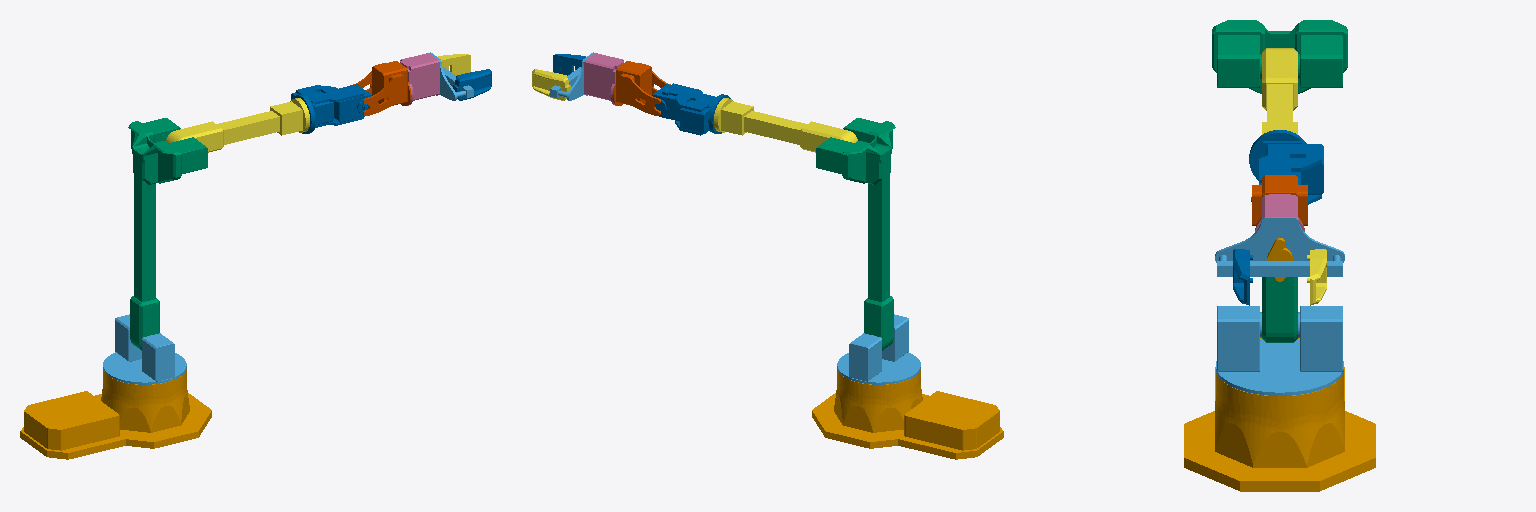
robot.urdf — wx250s:
<?xml version="1.0" encoding="UTF-8"?>
<!-- =================================================================================== -->
<!-- |    This document was autogenerated by xacro from C:\Users\tola\Anaconda3\envs\urdf_analyzer\Lib\site-packages\rtbdata\xacro\interbotix_descriptions\urdf\wx250s.urdf.xacro | -->
<!-- |    EDITING THIS FILE BY HAND IS NOT RECOMMENDED                                 | -->
<!-- =================================================================================== -->
<robot name="wx250s">
  <link name="base_link">
    <visual>
      <origin rpy="0 0 1.5707963267948966" xyz="0 0 0"/>
      <geometry>
        <mesh filename="meshes_wx250s/WXSA_250_M_1_Base.obj" scale="0.001 0.001 0.001"/>
      </geometry>
    </visual>
    <collision>
      <origin rpy="0 0 1.5707963267948966" xyz="0 0 0"/>
      <geometry>
        <mesh filename="meshes_wx250s/WXSA_250_M_1_Base.stl" scale="0.001 0.001 0.001"/>
      </geometry>
    </collision>
    <inertial>
      <origin rpy="0 0 1.5707963267948966" xyz="-0.0380446000 0.0006138920 0.0193354000"/>
      <mass value="0.538736"/>
      <inertia ixx="0.0021150000" ixy="-0.0000163500" ixz="0.0000006998" iyy="0.0006921000" iyz="0.0000464200" izz="0.0025240000"/>
    </inertial>
  </link>
  <joint name="waist" type="revolute">
    <axis xyz="0 0 1"/>
    <limit effort="10" lower="-3.141592653589793" upper="3.141592653589793" velocity="3.141592653589793"/>
    <origin rpy="0 0 0" xyz="0 0 0.072"/>
    <parent link="base_link"/>
    <child link="shoulder_link"/>
  </joint>
  <!-- <transmission name="trans_waist">
    <type>transmission_interface/SimpleTransmission</type>
    <joint name="waist">
      <hardwareInterface>hardware_interface/EffortJointInterface</hardwareInterface>
    </joint>
    <actuator name="waist_motor">
      <mechanicalReduction>1</mechanicalReduction>
    </actuator>
  </transmission> -->
  <link name="shoulder_link">
    <visual>
      <origin rpy="0 0 1.5707963267948966" xyz="0 0 -0.003"/>
      <geometry>
        <mesh filename="meshes_wx250s/WXSA_250_M_2_Shoulder.obj" scale="0.001 0.001 0.001"/>
      </geometry>
    </visual>
    <collision>
      <origin rpy="0 0 1.5707963267948966" xyz="0 0 -0.003"/>
      <geometry>
        <mesh filename="meshes_wx250s/WXSA_250_M_2_Shoulder.stl" scale="0.001 0.001 0.001"/>
      </geometry>
    </collision>
    <inertial>
      <origin rpy="0 0 1.5707963267948966" xyz="0.0000223482 0.0000414609 0.0066287000"/>
      <mass value="0.480879"/>
      <inertia ixx="0.0003790000" ixy="0.0000000022" ixz="-0.0000003561" iyy="0.0005557000" iyz="0.0000012245" izz="0.0005889000"/>
    </inertial>
  </link>
  <joint name="shoulder" type="revolute">
    <axis xyz="0 1 0"/>
    <limit effort="20" lower="-1.8849555921538759" upper="1.9896753472735358" velocity="3.141592653589793"/>
    <origin rpy="0 0 0" xyz="0 0 0.03865"/>
    <parent link="shoulder_link"/>
    <child link="upper_arm_link"/>
  </joint>
  <!-- <transmission name="trans_shoulder">
    <type>transmission_interface/SimpleTransmission</type>
    <joint name="shoulder">
      <hardwareInterface>hardware_interface/EffortJointInterface</hardwareInterface>
    </joint>
    <actuator name="shoulder_motor">
      <mechanicalReduction>1</mechanicalReduction>
    </actuator>
  </transmission> -->
  <link name="upper_arm_link">
    <visual>
      <origin rpy="0 0 1.5707963267948966" xyz="0 0 0"/>
      <geometry>
        <mesh filename="meshes_wx250s/WXSA_250_M_3_UA.obj" scale="0.001 0.001 0.001"/>
      </geometry>
    </visual>
    <collision>
      <origin rpy="0 0 1.5707963267948966" xyz="0 0 0"/>
      <geometry>
        <mesh filename="meshes_wx250s/WXSA_250_M_3_UA.stl" scale="0.001 0.001 0.001"/>
      </geometry>
    </collision>
    <inertial>
      <origin rpy="0 0 1.5707963267948966" xyz="0.0171605000 0.0000002725 0.1913230000"/>
      <mass value="0.430811"/>
      <inertia ixx="0.0034630000" ixy="-0.0000000001" ixz="-0.0000000002" iyy="0.0035870000" iyz="0.0004272000" izz="0.0004566000"/>
    </inertial>
  </link>
  <joint name="elbow" type="revolute">
    <axis xyz="0 1 0"/>
    <limit effort="15" lower="-2.1467549799530254" upper="1.6057029118347832" velocity="3.141592653589793"/>
    <origin rpy="0 0 0" xyz="0.04975 0 0.25"/>
    <parent link="upper_arm_link"/>
    <child link="upper_forearm_link"/>
  </joint>
  <!-- <transmission name="trans_elbow">
    <type>transmission_interface/SimpleTransmission</type>
    <joint name="elbow">
      <hardwareInterface>hardware_interface/EffortJointInterface</hardwareInterface>
    </joint>
    <actuator name="elbow_motor">
      <mechanicalReduction>1</mechanicalReduction>
    </actuator>
  </transmission> -->
  <link name="upper_forearm_link">
    <visual>
      <origin rpy="0 0 0" xyz="0 0 0"/>
      <geometry>
        <mesh filename="meshes_wx250s/WXSA_250_M_4_UF.obj" scale="0.001 0.001 0.001"/>
      </geometry>
    </visual>
    <collision>
      <origin rpy="0 0 0" xyz="0 0 0"/>
      <geometry>
        <mesh filename="meshes_wx250s/WXSA_250_M_4_UF.stl" scale="0.001 0.001 0.001"/>
      </geometry>
    </collision>
    <inertial>
      <origin rpy="0 0 0" xyz="0.1079630000 0.0001158760 0"/>
      <mass value="0.234589"/>
      <inertia ixx="0.0000397100" ixy="0.0000023528" ixz="0" iyy="0.0008878000" iyz="0" izz="0.0008880000"/>
    </inertial>
  </link>
  <joint name="forearm_roll" type="revolute">
    <axis xyz="1 0 0"/>
    <limit effort="2" lower="-3.141582653589793" upper="3.141582653589793" velocity="3.141592653589793"/>
    <origin rpy="0 0 0" xyz="0.175 0 0"/>
    <parent link="upper_forearm_link"/>
    <child link="lower_forearm_link"/>
  </joint>
  <!-- <transmission name="trans_forearm_roll">
    <type>transmission_interface/SimpleTransmission</type>
    <joint name="forearm_roll">
      <hardwareInterface>hardware_interface/EffortJointInterface</hardwareInterface>
    </joint>
    <actuator name="forearm_roll_motor">
      <mechanicalReduction>1</mechanicalReduction>
    </actuator>
  </transmission> -->
  <link name="lower_forearm_link">
    <visual>
      <origin rpy="3.141592653589793 0 0" xyz="0 0 0"/>
      <geometry>
        <mesh filename="meshes_wx250s/WXSA_250_M_5_LF.obj" scale="0.001 0.001 0.001"/>
      </geometry>
    </visual>
    <collision>
      <origin rpy="3.141592653589793 0 0" xyz="0 0 0"/>
      <geometry>
        <mesh filename="meshes_wx250s/WXSA_250_M_5_LF.stl" scale="0.001 0.001 0.001"/>
      </geometry>
    </collision>
    <inertial>
      <origin rpy="3.141592653589793 0 0" xyz="0.0374395000 0.0052225200 0"/>
      <mass value="0.220991"/>
      <inertia ixx="0.0000636900" ixy="-0.0000229200" ixz="0" iyy="0.0001677000" iyz="0" izz="0.0001834000"/>
    </inertial>
  </link>
  <joint name="wrist_angle" type="revolute">
    <axis xyz="0 1 0"/>
    <limit effort="5" lower="-1.7453292519943295" upper="2.1467549799530254" velocity="3.141592653589793"/>
    <origin rpy="0 0 0" xyz="0.075 0 0"/>
    <parent link="lower_forearm_link"/>
    <child link="wrist_link"/>
  </joint>
  <!-- <transmission name="trans_wrist_angle">
    <type>transmission_interface/SimpleTransmission</type>
    <joint name="wrist_angle">
      <hardwareInterface>hardware_interface/EffortJointInterface</hardwareInterface>
    </joint>
    <actuator name="wrist_angle_motor">
      <mechanicalReduction>1</mechanicalReduction>
    </actuator>
  </transmission> -->
  <link name="wrist_link">
    <visual>
      <origin rpy="0 0 1.5707963267948966" xyz="0 0 0"/>
      <geometry>
        <mesh filename="meshes_wx250s/WXSA_250_M_6_Wrist.obj" scale="0.001 0.001 0.001"/>
      </geometry>
    </visual>
    <collision>
      <origin rpy="0 0 1.5707963267948966" xyz="0 0 0"/>
      <geometry>
        <mesh filename="meshes_wx250s/WXSA_250_M_6_Wrist.stl" scale="0.001 0.001 0.001"/>
      </geometry>
    </collision>
    <inertial>
      <origin rpy="0 0 1.5707963267948966" xyz="0.0423600000 -0.0000106630 0.0105770000"/>
      <mass value="0.084957"/>
      <inertia ixx="0.0000308200" ixy="0.0000000191" ixz="0.0000000023" iyy="0.0000282200" iyz="0.0000025481" izz="0.0000315200"/>
    </inertial>
  </link>
  <joint name="wrist_rotate" type="revolute">
    <axis xyz="1 0 0"/>
    <limit effort="1" lower="-3.141582653589793" upper="3.141582653589793" velocity="3.141592653589793"/>
    <origin rpy="0 0 0" xyz="0.065 0 0"/>
    <parent link="wrist_link"/>
    <child link="gripper_link"/>
  </joint>
  <!-- <transmission name="trans_wrist_rotate">
    <type>transmission_interface/SimpleTransmission</type>
    <joint name="wrist_rotate">
      <hardwareInterface>hardware_interface/EffortJointInterface</hardwareInterface>
    </joint>
    <actuator name="wrist_rotate_motor">
      <mechanicalReduction>1</mechanicalReduction>
    </actuator>
  </transmission> -->
  <link name="gripper_link">
    <visual>
      <origin rpy="0 0 1.5707963267948966" xyz="-0.02 0 0"/>
      <geometry>
        <mesh filename="meshes_wx250s/WXSA_250_M_7_Gripper.obj" scale="0.001 0.001 0.001"/>
      </geometry>
    </visual>
    <collision>
      <origin rpy="0 0 1.5707963267948966" xyz="-0.02 0 0"/>
      <geometry>
        <mesh filename="meshes_wx250s/WXSA_250_M_7_Gripper.stl" scale="0.001 0.001 0.001"/>
      </geometry>
    </collision>
    <inertial>
      <origin rpy="0 0 1.5707963267948966" xyz="0.0216310000 0.0000002516 0.0114100000"/>
      <mass value="0.072885"/>
      <inertia ixx="0.0000253700" ixy="0.0000000000" ixz="0.0000000000" iyy="0.0000183600" iyz="0.0000004340" izz="0.0000167400"/>
    </inertial>
  </link>
  <joint name="ee_arm" type="fixed">
    <axis xyz="1 0 0"/>
    <origin rpy="0 0 0" xyz="0.043 0 0"/>
    <parent link="gripper_link"/>
    <child link="ee_arm_link"/>
  </joint>
  <link name="ee_arm_link">
    <inertial>
      <mass value="0.001"/>
      <inertia ixx="0.001" ixy="0" ixz="0" iyy="0.001" iyz="0" izz="0.001"/>
    </inertial>
  </link>
  <joint name="gripper" type="fixed">
    <axis xyz="1 0 0"/>
    <!-- <limit effort="1" velocity="3.141592653589793"/> -->
    <origin rpy="0 0 0" xyz="0.0055 0 0"/>
    <parent link="ee_arm_link"/>
    <child link="gripper_prop_link"/>
  </joint>
  <!-- <transmission name="trans_gripper">
    <type>transmission_interface/SimpleTransmission</type>
    <joint name="gripper">
      <hardwareInterface>hardware_interface/EffortJointInterface</hardwareInterface>
    </joint>
    <actuator name="gripper_motor">
      <mechanicalReduction>1</mechanicalReduction>
    </actuator>
  </transmission> -->
  <link name="gripper_prop_link">
    <visual>
      <origin rpy="0 0 1.5707963267948966" xyz="-0.0685 0 0"/>
      <geometry>
        <mesh filename="meshes_wx250s/WXSA_250_M_8_Gripper_Prop.obj" scale="0.001 0.001 0.001"/>
      </geometry>
    </visual>
    <collision>
      <origin rpy="0 0 1.5707963267948966" xyz="-0.0685 0 0"/>
      <geometry>
        <mesh filename="meshes_wx250s/WXSA_250_M_8_Gripper_Prop.stl" scale="0.001 0.001 0.001"/>
      </geometry>
    </collision>
    <inertial>
      <origin rpy="0 0 1.5707963267948966" xyz="0.0008460000 -0.0000016817 0.0000420000"/>
      <mass value="0.00434"/>
      <inertia ixx="0.0000005923" ixy="0.0000000000" ixz="0.0000003195" iyy="0.0000011156" iyz="-0.0000000004" izz="0.0000005743"/>
    </inertial>
  </link>
  <!-- If the default gripper bar is being used, then also add the gripper bar -->
  <joint name="gripper_bar" type="fixed">
    <axis xyz="1 0 0"/>
    <origin rpy="0 0 0" xyz="0 0 0"/>
    <parent link="ee_arm_link"/>
    <child link="gripper_bar_link"/>
  </joint>
  <link name="gripper_bar_link">
    <visual>
      <origin rpy="0 0 1.5707963267948966" xyz="-0.063 0 0"/>
      <geometry>
        <mesh filename="meshes_wx250s/WXSA_250_M_9_Gripper_Bar.obj" scale="0.001 0.001 0.001"/>
      </geometry>
    </visual>
    <collision>
      <origin rpy="0 0 1.5707963267948966" xyz="-0.063 0 0"/>
      <geometry>
        <mesh filename="meshes_wx250s/WXSA_250_M_9_Gripper_Bar.stl" scale="0.001 0.001 0.001"/>
      </geometry>
    </collision>
    <inertial>
      <origin rpy="0 0 1.5707963267948966" xyz="0.0096870000 0.0000008177 0.0049620000"/>
      <mass value="0.034199"/>
      <inertia ixx="0.0000074125" ixy="-0.0000000008" ixz="-0.0000000006" iyy="0.0000284300" iyz="-0.0000013889" izz="0.0000286000"/>
    </inertial>
  </link>
  <joint name="ee_bar" type="fixed">
    <axis xyz="1 0 0"/>
    <origin rpy="0 0 0" xyz="0.023 0 0"/>
    <parent link="gripper_bar_link"/>
    <child link="fingers_link"/>
  </joint>
  <link name="fingers_link">
    <inertial>
      <mass value="0.001"/>
      <inertia ixx="0.001" ixy="0" ixz="0" iyy="0.001" iyz="0" izz="0.001"/>
    </inertial>
  </link>
  <!-- If the default gripper fingers are being used, add those as well -->
  <joint name="left_finger" type="prismatic">
    <axis xyz="0 1 0"/>
    <!-- <limit effort="5" lower="0.015" upper="0.037" velocity="1"/> -->
    <limit effort="5" lower="0.015" upper="0.05" velocity="1"/>
    <origin rpy="0 0 0" xyz="0 0 0"/>
    <parent link="fingers_link"/>
    <child link="left_finger_link"/>
  </joint>
  <!-- <joint name="left_finger" type="fixed">
    <origin rpy="0 0 0" xyz="0 0 0"/>
    <parent link="fingers_link"/>
    <child link="left_finger_link"/>
  </joint> -->
  <!-- <transmission name="trans_left_finger">
    <type>transmission_interface/SimpleTransmission</type>
    <joint name="left_finger">
      <hardwareInterface>hardware_interface/EffortJointInterface</hardwareInterface>
    </joint>
    <actuator name="left_finger_motor">
      <mechanicalReduction>1</mechanicalReduction>
    </actuator>
  </transmission> -->
  <link name="left_finger_link">
    <visual>
      <origin rpy="3.141592653589793 3.141592653589793 0" xyz="0 0.005 0"/>
      <geometry>
        <mesh filename="meshes_wx250s/WXSA_250_M_10_Finger.obj" scale="0.001 0.001 0.001"/>
      </geometry>
    </visual>
    <collision>
      <origin rpy="3.141592653589793 3.141592653589793 0" xyz="0 0.005 0"/>
      <geometry>
        <mesh filename="meshes_wx250s/WXSA_250_M_10_Finger.stl" scale="0.001 0.001 0.001"/>
      </geometry>
    </collision>
    <inertial>
      <origin rpy="3.141592653589793 3.141592653589793 1.5707963267948966" xyz="0.0138160000 0.0000000000 0.0000000000"/>
      <mass value="0.016246"/>
      <inertia ixx="0.0000047310" ixy="-0.0000004560" ixz="0.0000000000" iyy="0.0000015506" iyz="0.0000000000" izz="0.0000037467"/>
    </inertial>
  </link>
  <joint name="right_finger" type="prismatic">
    <axis xyz="0 -1 0"/>
    <!-- <limit effort="5" lower="0.015" upper="0.037" velocity="1"/> -->
    <limit effort="5" lower="0.015" upper="0.05" velocity="1"/>
    <origin rpy="0 0 0" xyz="0 0 0"/>
    <parent link="fingers_link"/>
    <child link="right_finger_link"/>
    <mimic joint="left_finger" multiplier="1" offset="0"/>
  </joint>
  <!-- <joint name="right_finger" type="fixed">
    <origin rpy="0 0 0" xyz="0 0 0"/>
    <parent link="fingers_link"/>
    <child link="right_finger_link"/>
  </joint> -->
  <!-- <transmission name="trans_right_finger">
    <type>transmission_interface/SimpleTransmission</type>
    <joint name="right_finger">
      <hardwareInterface>hardware_interface/EffortJointInterface</hardwareInterface>
    </joint>
    <actuator name="right_finger_motor">
      <mechanicalReduction>1</mechanicalReduction>
    </actuator>
  </transmission> -->
  <link name="right_finger_link">
    <visual>
      <origin rpy="0 3.141592653589793 0" xyz="0 -0.005 0"/>
      <geometry>
        <mesh filename="meshes_wx250s/WXSA_250_M_10_Finger.obj" scale="0.001 0.001 0.001"/>
      </geometry>
    </visual>
    <collision>
      <origin rpy="0 3.141592653589793 0" xyz="0 -0.005 0"/>
      <geometry>
        <mesh filename="meshes_wx250s/WXSA_250_M_10_Finger.stl" scale="0.001 0.001 0.001"/>
      </geometry>
    </collision>
    <inertial>
      <origin rpy="0 3.141592653589793 1.5707963267948966" xyz="0.0138160000 0.0000000000  0.0000000000"/>
      <mass value="0.016246"/>
      <inertia ixx="0.0000047310" ixy="0.0000004560" ixz="0.0000000000" iyy="0.0000015506" iyz="0.0000000000" izz="0.0000037467"/>
    </inertial>
  </link>
  <joint name="ee_gripper" type="fixed">
    <axis xyz="1 0 0"/>
    <origin rpy="0 0 0" xyz="0.027575 0 0"/>
    <parent link="fingers_link"/>
    <child link="ee_gripper_link"/>
  </joint>
  <link name="ee_gripper_link">
    <inertial>
      <mass value="0.001"/>
      <inertia ixx="0.001" ixy="0" ixz="0" iyy="0.001" iyz="0" izz="0.001"/>
    </inertial>
  </link>
  <!-- ===== IsaacLabEnvs pick/place frames (widowx-native names) ===== -->
  <!-- TCP grasp site: central axis at grasp depth (= ee_gripper x in gripper_link). Fixed to hand. -->
  <joint name="grip_site_joint" type="fixed">
    <origin rpy="0 0 0" xyz="0.0936 0 0"/>
    <parent link="gripper_link"/>
    <child link="grip_site"/>
  </joint>
  <link name="grip_site">
    <inertial>
      <mass value="0.001"/>
      <inertia ixx="0.001" ixy="0" ixz="0" iyy="0.001" iyz="0" izz="0.001"/>
    </inertial>
  </link>
  <!-- Fingertip frames (move with the prismatic fingers); collision box for contact sensing. -->
  <joint name="left_finger_tip_joint" type="fixed">
    <origin rpy="0 0 0" xyz="0.027575 0 0"/>
    <parent link="left_finger_link"/>
    <child link="left_finger_tip"/>
  </joint>
  <link name="left_finger_tip">
    <collision>
      <geometry>
        <box size="0.013 0.004 0.013"/>
      </geometry>
    </collision>
    <inertial>
      <mass value="0.001"/>
      <inertia ixx="0.001" ixy="0" ixz="0" iyy="0.001" iyz="0" izz="0.001"/>
    </inertial>
  </link>
  <joint name="right_finger_tip_joint" type="fixed">
    <origin rpy="0 0 0" xyz="0.027575 0 0"/>
    <parent link="right_finger_link"/>
    <child link="right_finger_tip"/>
  </joint>
  <link name="right_finger_tip">
    <collision>
      <geometry>
        <box size="0.013 0.004 0.013"/>
      </geometry>
    </collision>
    <inertial>
      <mass value="0.001"/>
      <inertia ixx="0.001" ixy="0" ixz="0" iyy="0.001" iyz="0" izz="0.001"/>
    </inertial>
  </link>
</robot>

--- Render facts (derived) ---
Views: 3 orthographic renders of the robot side by side, from view 1: azimuth 30°, elevation 25°; view 2: azimuth 150°, elevation 25°; view 3: azimuth 270°, elevation 25°.
Model wx250s with 17 links and 16 joints (6 revolute, 2 prismatic, 8 fixed), rooted at base_link, posed joints at zero except 2 at the middle of their limits (left_finger = 0.0325, right_finger = 0.0325).
Links seen in each view (by area): view 1: base_link, upper_arm_link, shoulder_link, upper_forearm_link, lower_forearm_link, wrist_link, gripper_link, right_finger_link, gripper_bar_link, left_finger_link; view 2: base_link, upper_arm_link, shoulder_link, upper_forearm_link, lower_forearm_link, wrist_link, gripper_link, left_finger_link, gripper_bar_link, right_finger_link; view 3: base_link, upper_arm_link, shoulder_link, gripper_bar_link, lower_forearm_link, upper_forearm_link, wrist_link, left_finger_link, right_finger_link, gripper_link.
Boxes of the visible links, x1,y1,x2,y2 form: base_link: [20, 369, 211, 459]; upper_arm_link: [128, 118, 207, 350]; shoulder_link: [103, 314, 186, 384]; upper_forearm_link: [166, 98, 309, 152]; lower_forearm_link: [291, 84, 371, 133]; wrist_link: [353, 61, 411, 115]; gripper_link: [400, 53, 439, 105]; right_finger_link: [453, 69, 491, 100]; gripper_bar_link: [430, 52, 473, 100]; left_finger_link: [438, 54, 470, 75]; base_link: [812, 369, 1003, 459]; upper_arm_link: [816, 118, 895, 350]; shoulder_link: [837, 314, 920, 384]; upper_forearm_link: [714, 98, 857, 152]; lower_forearm_link: [652, 83, 730, 135]; wrist_link: [612, 61, 670, 115]; gripper_link: [584, 53, 623, 105]; left_finger_link: [532, 69, 570, 100]; gripper_bar_link: [550, 52, 593, 100]; right_finger_link: [553, 54, 585, 75]; base_link: [1184, 338, 1375, 491]; upper_arm_link: [1212, 20, 1347, 342]; shoulder_link: [1216, 306, 1343, 395]; gripper_bar_link: [1215, 217, 1344, 276]; lower_forearm_link: [1249, 130, 1323, 204]; upper_forearm_link: [1262, 48, 1297, 134]; wrist_link: [1252, 175, 1307, 228]; left_finger_link: [1307, 249, 1326, 305]; right_finger_link: [1233, 249, 1252, 305]; gripper_link: [1255, 194, 1304, 231].
Bounding box of the posed robot: 0.6309 × 0.1531 × 0.3959 m (x, y, z).
11 mesh visuals loaded from 10 distinct referenced files (10 OBJ).
